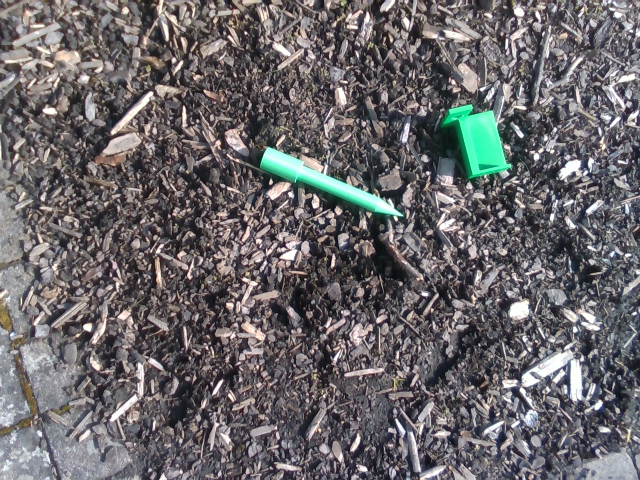Probe: (257, 141, 408, 225)
